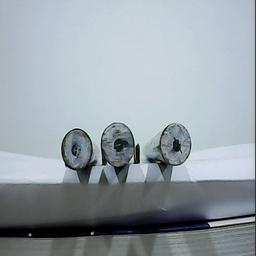pen: (100, 121, 135, 168), (158, 121, 193, 166), (61, 128, 93, 171)
